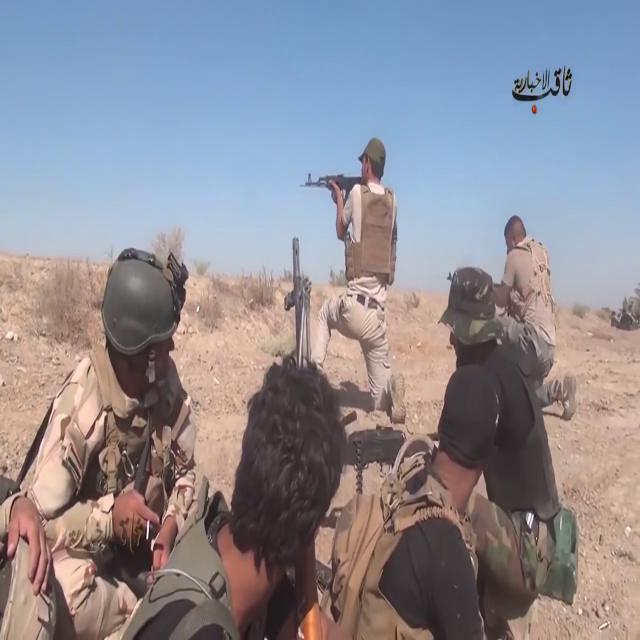long weapon: (298, 165, 365, 209)
